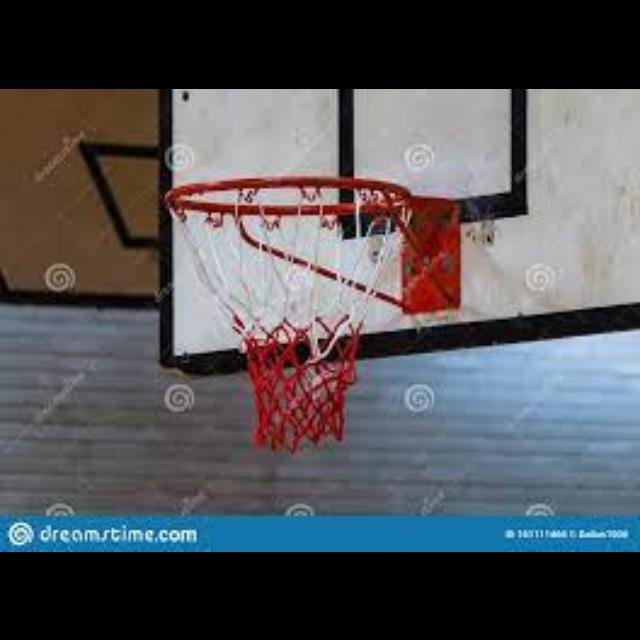rim: (168, 175, 412, 442)
